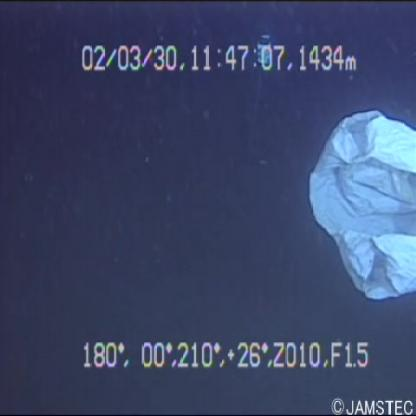Rác: (306, 78, 416, 309)
